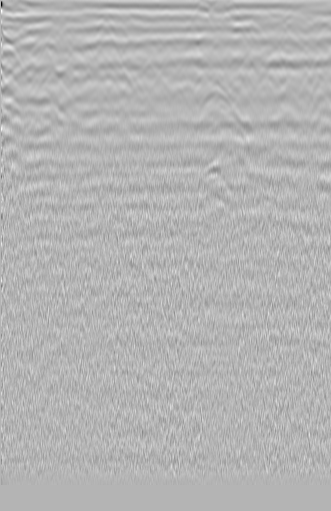가스: (197, 161, 234, 190)
상수: (233, 24, 267, 52)
오수: (0, 39, 27, 73)
우수: (88, 22, 115, 48)
